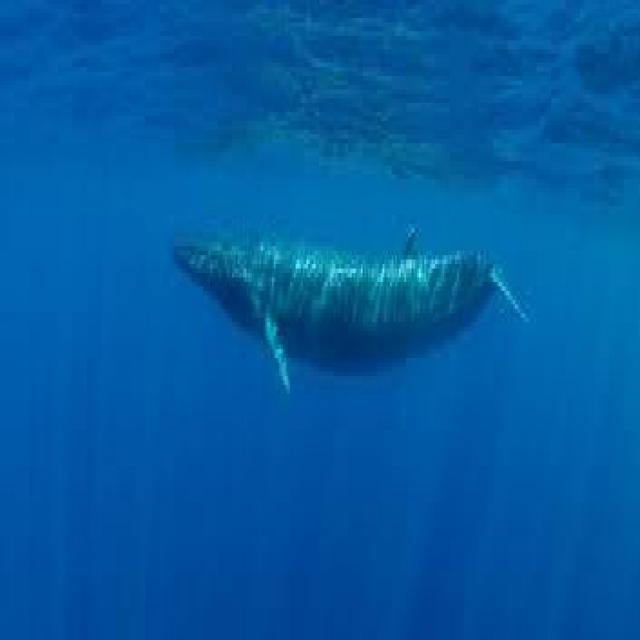blue_whale: (160, 202, 528, 492)
